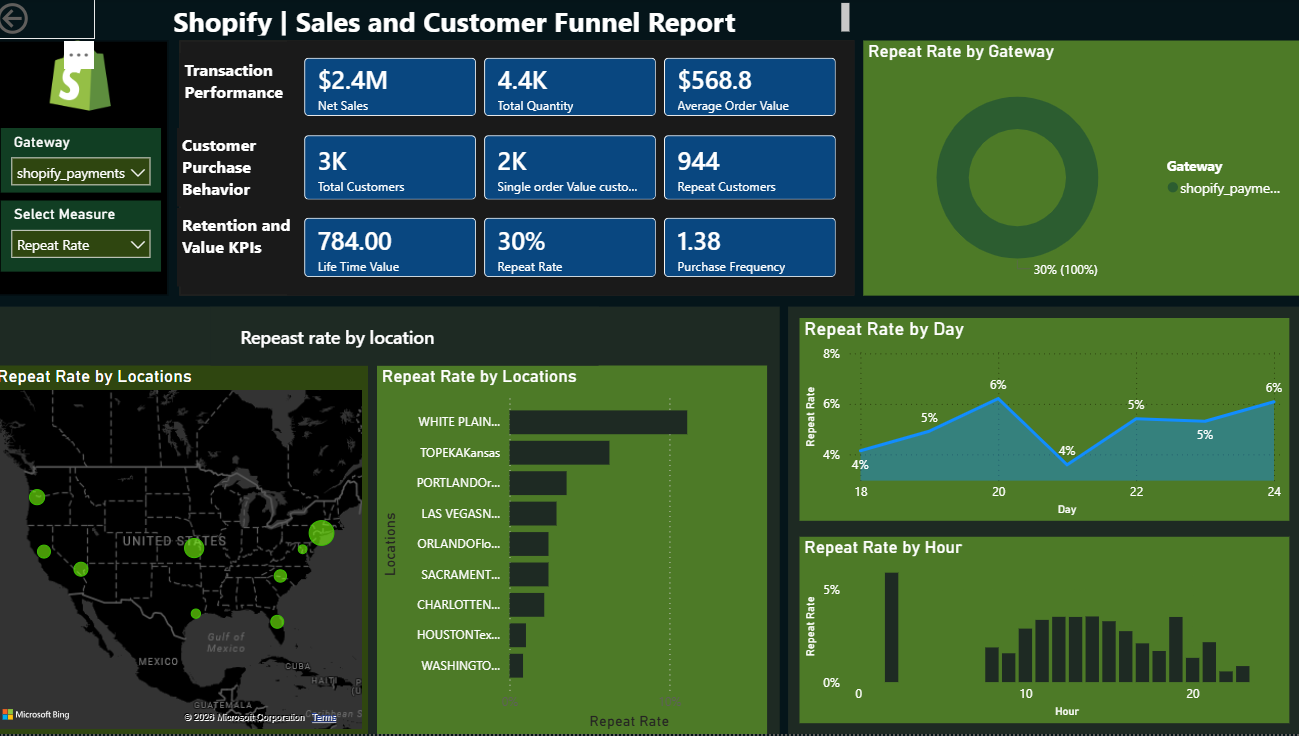

Layout of this report page (visuals, bound fields, positions):
{"tool":"powerbi","page":{"name":"Page 1","canvas":[1280,720],"ordinal":0},"visuals":[{"type":"shape","box":[0,302,770.4,418.2],"z":0},{"type":"textbox","box":[172.4,0,671.3,41.6],"z":1000},{"type":"shape","box":[0,41.6,172.4,249.5],"z":2000},{"type":"shape","box":[183.4,41.6,660.3,249.5],"z":3000},{"type":"cardVisual","fields":{"Data":["shopify_sales.Net Sales","shopify_sales.Total Quantity","shopify_sales.Average Order Value"]},"box":[288.6,41.6,555.2,91.7],"z":4000},{"type":"textbox","box":[183.4,53.8,116.2,77],"z":5000},{"type":"cardVisual","fields":{"Data":["shopify_sales.Total Customers","shopify_sales.Single order Value customers","shopify_sales.Repeat Customers"]},"box":[288.6,117.4,555.2,97.8],"z":6000},{"type":"textbox","box":[181,127.2,122.3,77],"z":7000},{"type":"cardVisual","fields":{"Data":["shopify_sales.Life Time Value","shopify_sales.Repeat Rate","shopify_sales.Purchase Frequency"]},"box":[288.6,198.1,555.2,92.9],"z":8000},{"type":"textbox","box":[181,205.4,122.3,77],"z":9000},{"type":"slicer","fields":{"Values":["Select Measure.Select Measure"]},"box":[8.6,198.1,156.5,69.7],"z":10000},{"type":"map","fields":{"Size":["shopify_sales.Total Quantity"],"Category":["shopify_sales.Locations"]},"box":[0,359.5,366.8,360.7],"z":11000},{"type":"clusteredBarChart","fields":{"Y":["shopify_sales.Total Quantity"],"Category":["shopify_sales.Locations"]},"box":[376.6,359.5,381.5,360.7],"z":12000},{"type":"cardVisual","fields":{"Data":["Select Measure.Locations title"]},"box":[214,302,379.1,57.5],"z":13000},{"type":"shape","box":[778.9,302,501.4,418.2],"z":14000},{"type":"areaChart","fields":{"Y":["shopify_sales.Total Quantity"],"Category":["shopify_sales.Invoice Date.Variation.Date Hierarchy.Day"]},"box":[789.9,313,479.4,198.1],"z":15000},{"type":"columnChart","fields":{"Y":["shopify_sales.Total Quantity"],"Category":["shopify_sales.Hour"]},"box":[789.9,527,479.4,182.2],"z":16000},{"type":"donutChart","fields":{"Y":["shopify_sales.Total Quantity"],"Category":["shopify_sales.Gateway"]},"box":[852.3,41.6,428,249.5],"z":17000},{"type":"slicer","fields":{"Values":["shopify_sales.Gateway"]},"box":[8.6,127.2,156.5,63.6],"z":18000},{"type":"image","box":[19.6,41.6,133.3,68.5],"z":19000}]}

Visuals, with their boxes in screenshot pixels (x1, y1, x2, y2), scaled from the page's 1280x720 canvas onto the 1299x736 screenshot:
shape: box=[0, 309, 782, 735]
textbox: box=[175, 0, 856, 43]
shape: box=[0, 43, 175, 298]
shape: box=[186, 43, 856, 298]
cardVisual - shopify_sales.Net Sales x shopify_sales.Total Quantity: box=[293, 43, 856, 136]
textbox: box=[186, 55, 304, 134]
cardVisual - shopify_sales.Total Customers x shopify_sales.Single order Value customers: box=[293, 120, 856, 220]
textbox: box=[184, 130, 308, 209]
cardVisual - shopify_sales.Life Time Value x shopify_sales.Repeat Rate: box=[293, 203, 856, 297]
textbox: box=[184, 210, 308, 289]
slicer - Select Measure.Select Measure: box=[9, 203, 168, 274]
map - shopify_sales.Total Quantity x shopify_sales.Locations: box=[0, 367, 372, 735]
clusteredBarChart - shopify_sales.Total Quantity x shopify_sales.Locations: box=[382, 367, 769, 735]
cardVisual - Select Measure.Locations title: box=[217, 309, 602, 367]
shape: box=[790, 309, 1298, 735]
areaChart - shopify_sales.Total Quantity x shopify_sales.Invoice Date.Variation.Date Hierarchy.Day: box=[802, 320, 1288, 522]
columnChart - shopify_sales.Total Quantity x shopify_sales.Hour: box=[802, 539, 1288, 725]
donutChart - shopify_sales.Total Quantity x shopify_sales.Gateway: box=[865, 43, 1298, 298]
slicer - shopify_sales.Gateway: box=[9, 130, 168, 195]
image: box=[20, 43, 155, 113]
